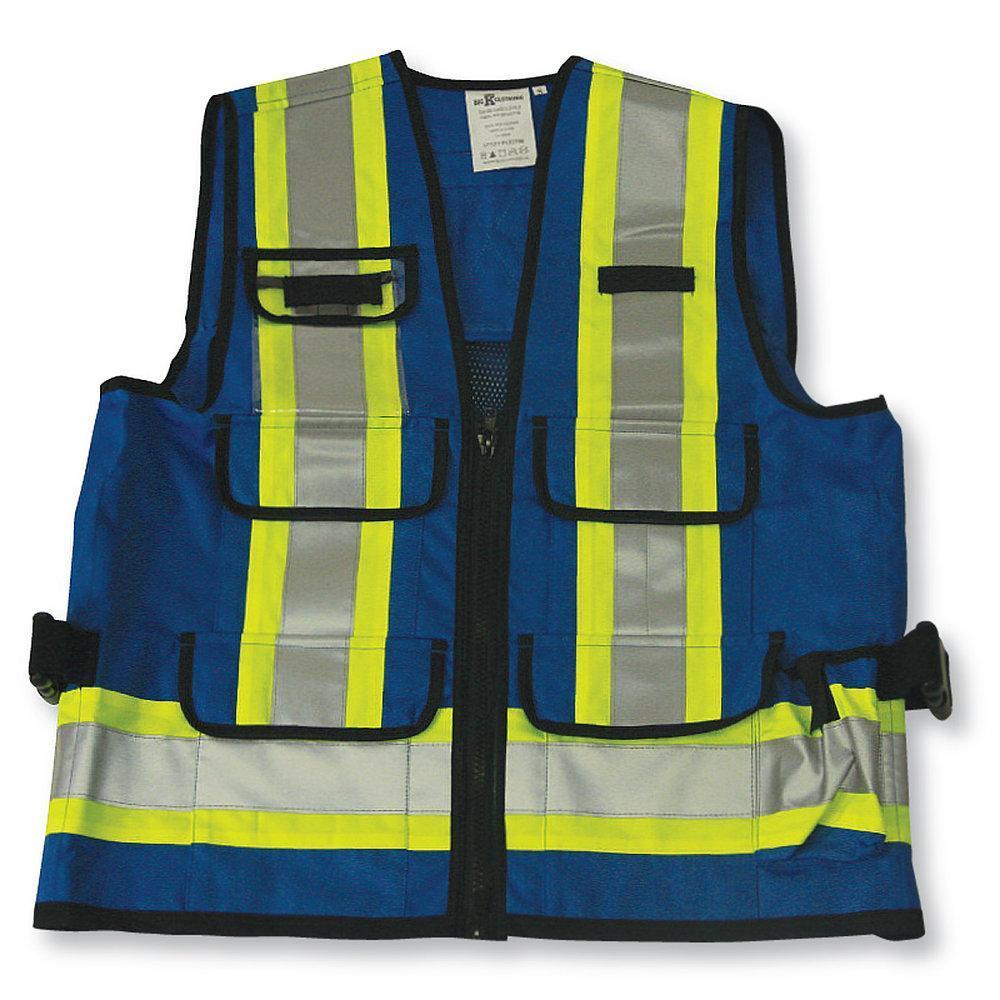vest: (27, 51, 926, 939)
